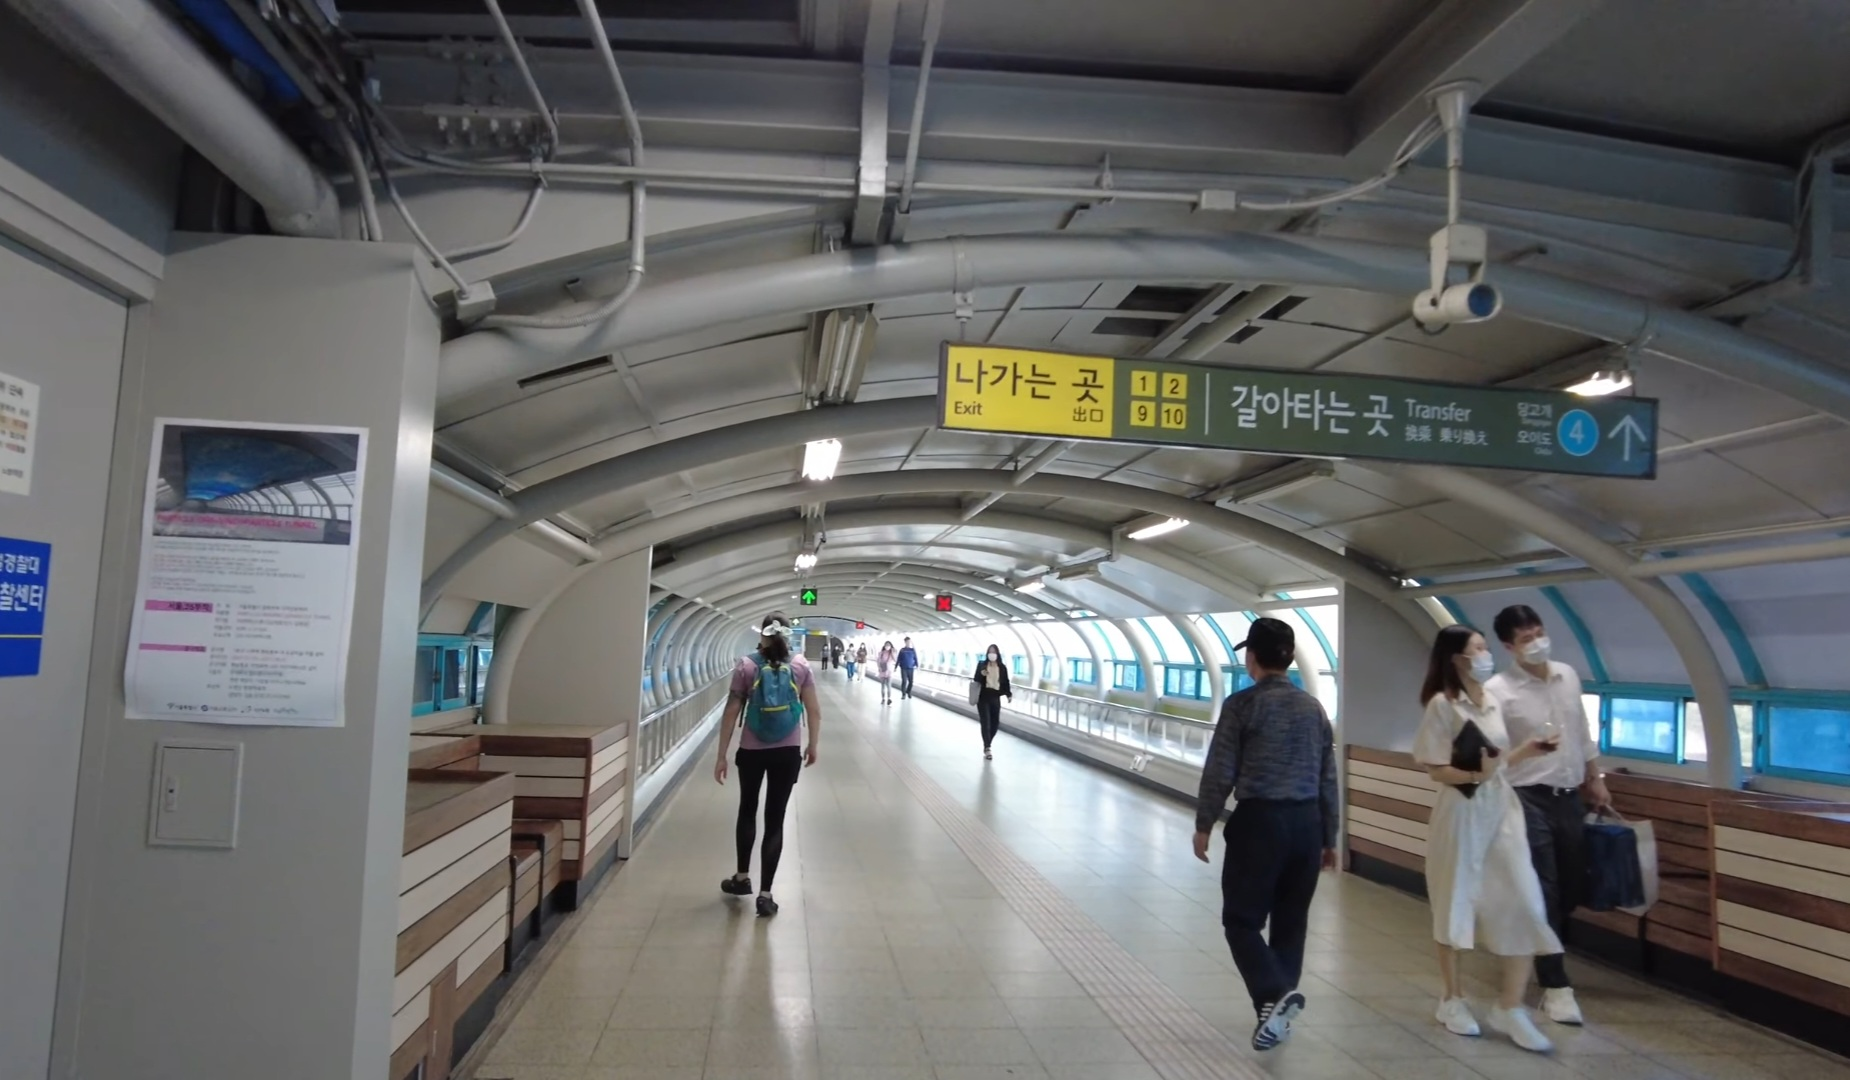signBoard: (929, 324, 1662, 483)
